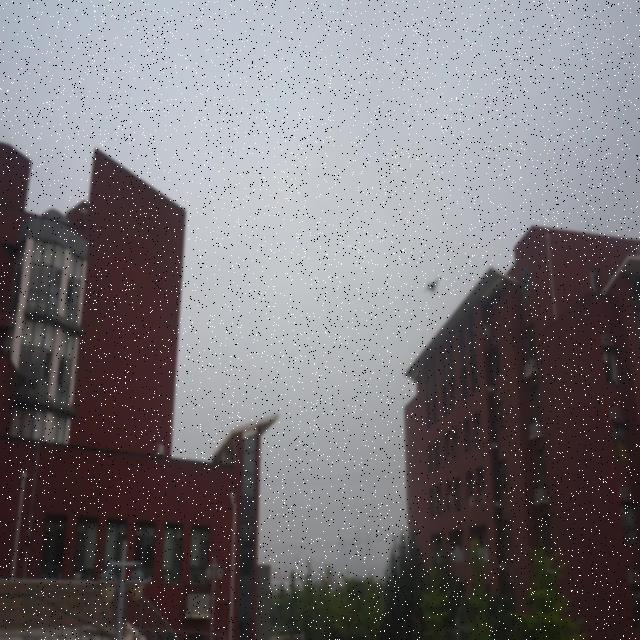UAV: (424, 277, 441, 295)
